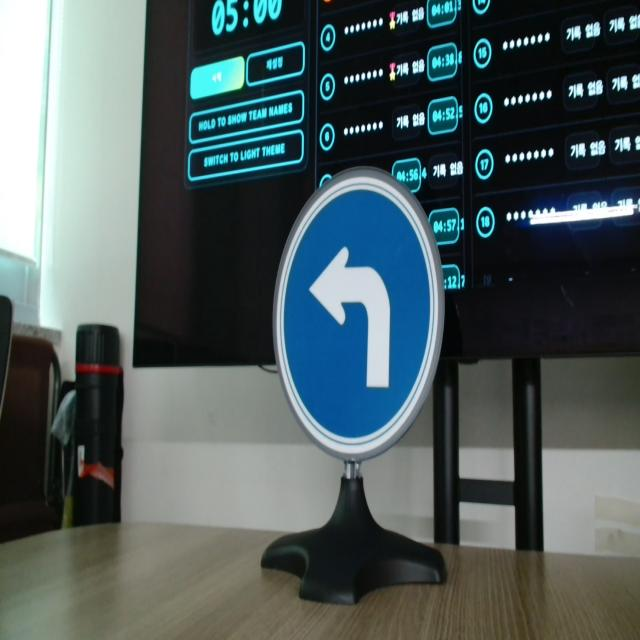left_direction: (271, 175, 442, 461)
